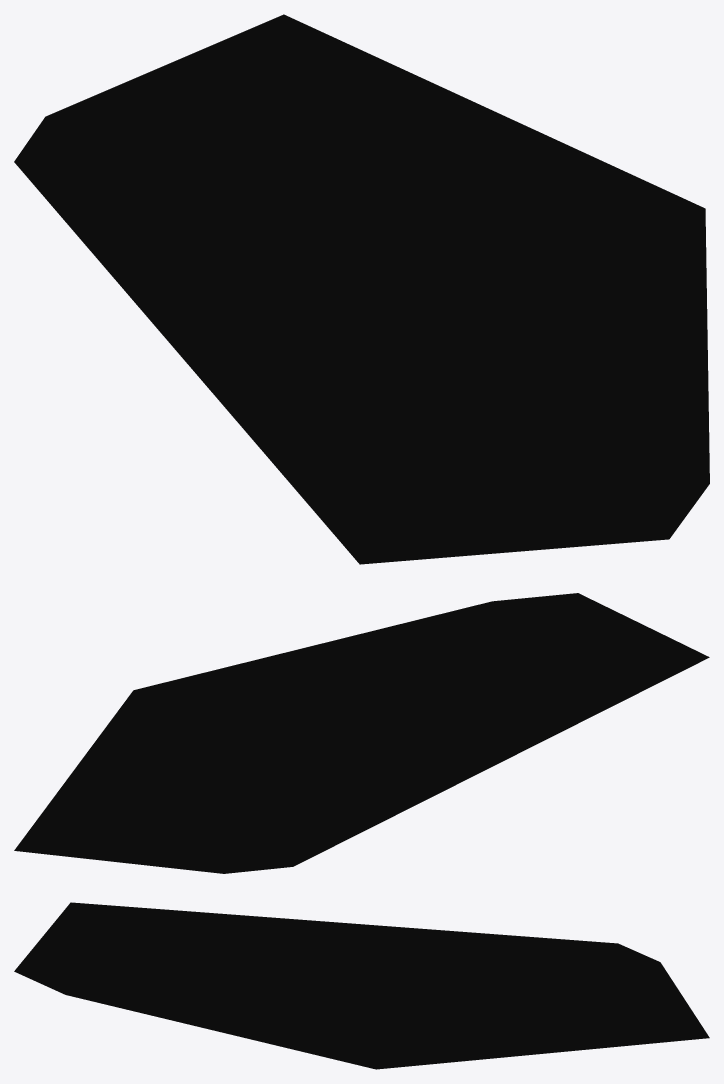
The model's file is kam1.fbx.
The picture shows the model from 3 angles, top to bottom: view 1: azimuth 30°, elevation 25°; view 2: azimuth 150°, elevation 25°; view 3: azimuth 270°, elevation 25°; orthographic projection. The views are drawn at different scales.
Parts seen in each view (by area): view 1: kam1; view 2: kam1; view 3: kam1.
Boxes of the visible parts, x1,y1,x2,y2 form: kam1: (14,14,709,564); kam1: (14,593,709,873); kam1: (14,902,709,1069).
Size of the model in its own units: 1498 by 0.0016 by 2637.
